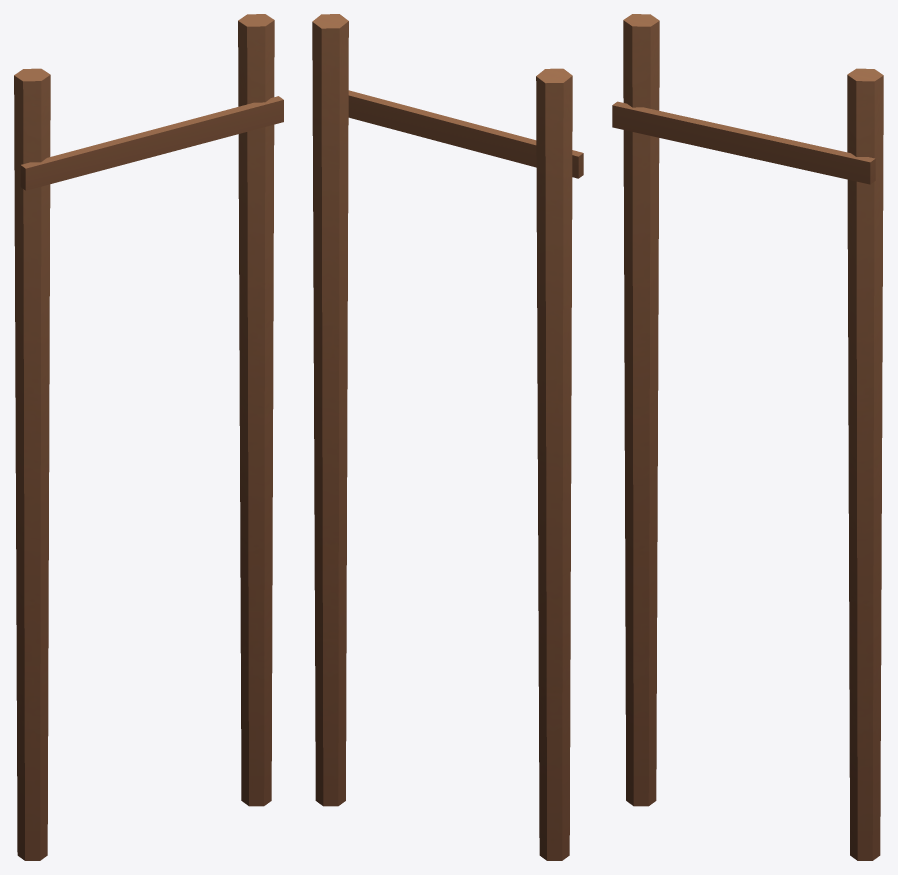
File: Wood_Bridge_02.fbx
The picture shows the model from 3 angles, left to right: view 1: azimuth 30°, elevation 25°; view 2: azimuth 150°, elevation 25°; view 3: azimuth 330°, elevation 25°; orthographic projection.
Parts seen in each view (by area): view 1: Wood_Bridge_02; view 2: Wood_Bridge_02; view 3: Wood_Bridge_02.
Boxes of the visible parts, x1=… form: Wood_Bridge_02: x1=14, y1=14, x2=283, y2=860; Wood_Bridge_02: x1=312, y1=14, x2=583, y2=860; Wood_Bridge_02: x1=612, y1=14, x2=883, y2=860.
Bounding box in the file's own units: 172 × 497 × 23.55.
